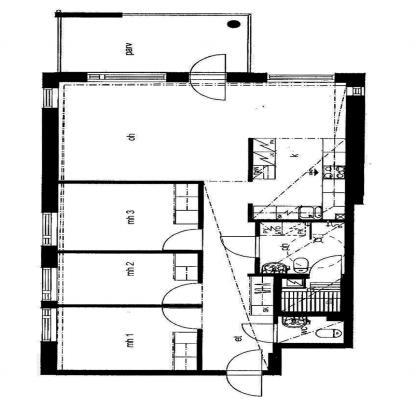bathroom: (259, 221, 343, 311), (275, 313, 348, 344)
door: (181, 54, 230, 105), (217, 349, 268, 397), (152, 226, 210, 257), (153, 305, 212, 334), (154, 280, 209, 308), (181, 75, 235, 103), (221, 346, 276, 373), (215, 233, 263, 260), (185, 52, 234, 78), (220, 371, 267, 397), (237, 319, 282, 346)
perimeter: (46, 74, 348, 371)
window: (78, 68, 176, 88), (263, 68, 342, 88), (33, 305, 66, 346), (30, 209, 61, 251), (33, 265, 61, 306), (38, 85, 63, 112), (337, 83, 374, 99)
